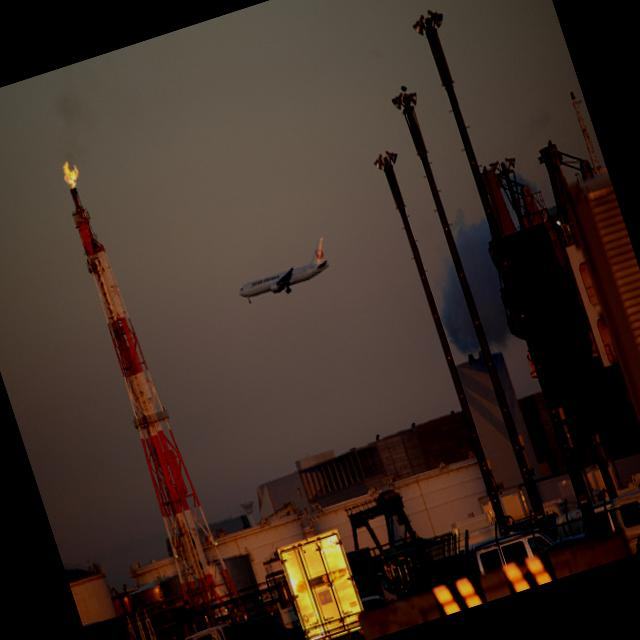Vehicle: (273, 526, 374, 640), (467, 524, 558, 578), (216, 604, 312, 640), (181, 623, 237, 640)
